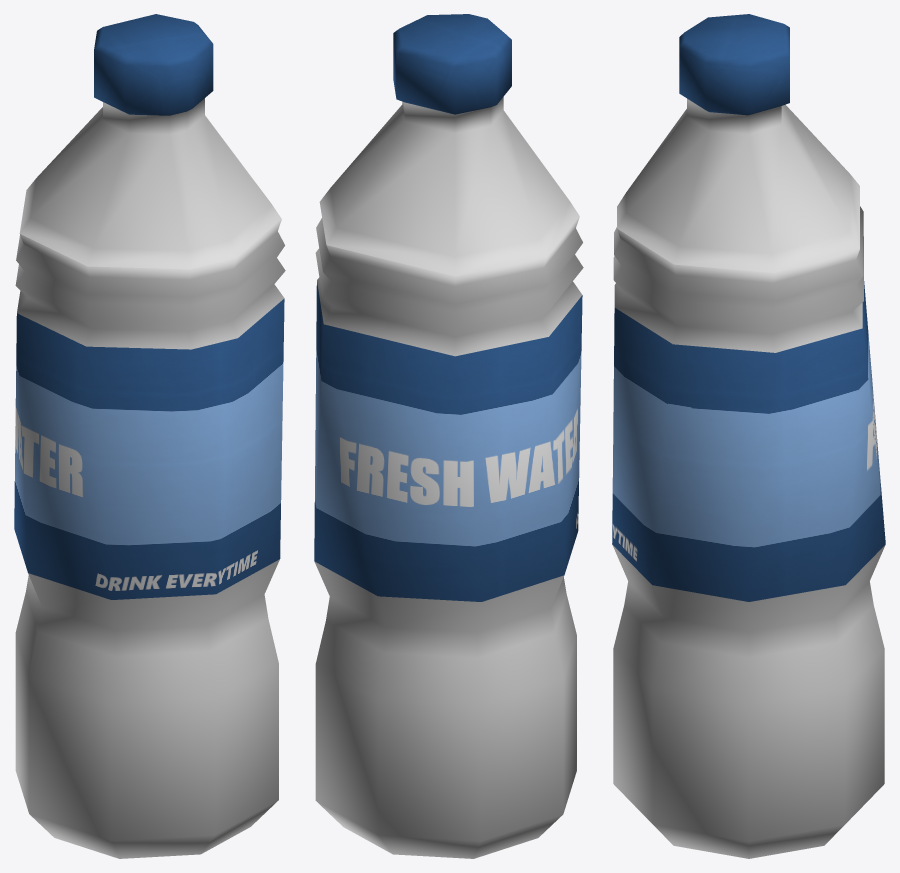
The model's file is WatterBottle.fbx.
3 views of the same model, side by side, from view 1: azimuth 30°, elevation 25°; view 2: azimuth 150°, elevation 25°; view 3: azimuth 270°, elevation 25° (orthographic).
Parts seen in each view (by area): view 1: Bottle; view 2: Bottle; view 3: Bottle.
Part boxes in pixels (x1=…): Bottle: x1=14, y1=14, x2=285, y2=858; Bottle: x1=314, y1=14, x2=583, y2=858; Bottle: x1=612, y1=14, x2=885, y2=858.
Bounding box in the file's own units: 401 × 1263 × 401.
Materials: 3 (2 with a texture image).
